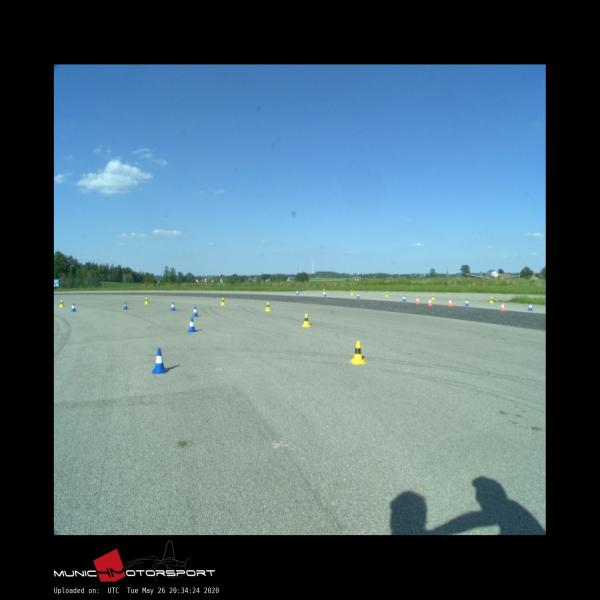blue_cone: (152, 348, 168, 372), (186, 318, 196, 332), (192, 306, 199, 316), (170, 302, 176, 310), (71, 303, 76, 312), (123, 301, 128, 310), (528, 302, 533, 311), (464, 299, 468, 306), (402, 295, 406, 301), (323, 292, 327, 296), (357, 293, 360, 298), (296, 290, 299, 294)
orange_cone: (415, 296, 420, 304), (501, 302, 506, 310), (428, 298, 432, 306), (448, 299, 452, 306)
yellow_cone: (350, 340, 367, 364), (302, 314, 310, 326), (264, 302, 270, 311), (221, 297, 225, 305), (144, 297, 148, 304), (490, 296, 494, 303), (60, 300, 63, 307), (385, 291, 388, 297), (432, 294, 434, 300), (351, 290, 353, 295), (323, 289, 325, 293)
